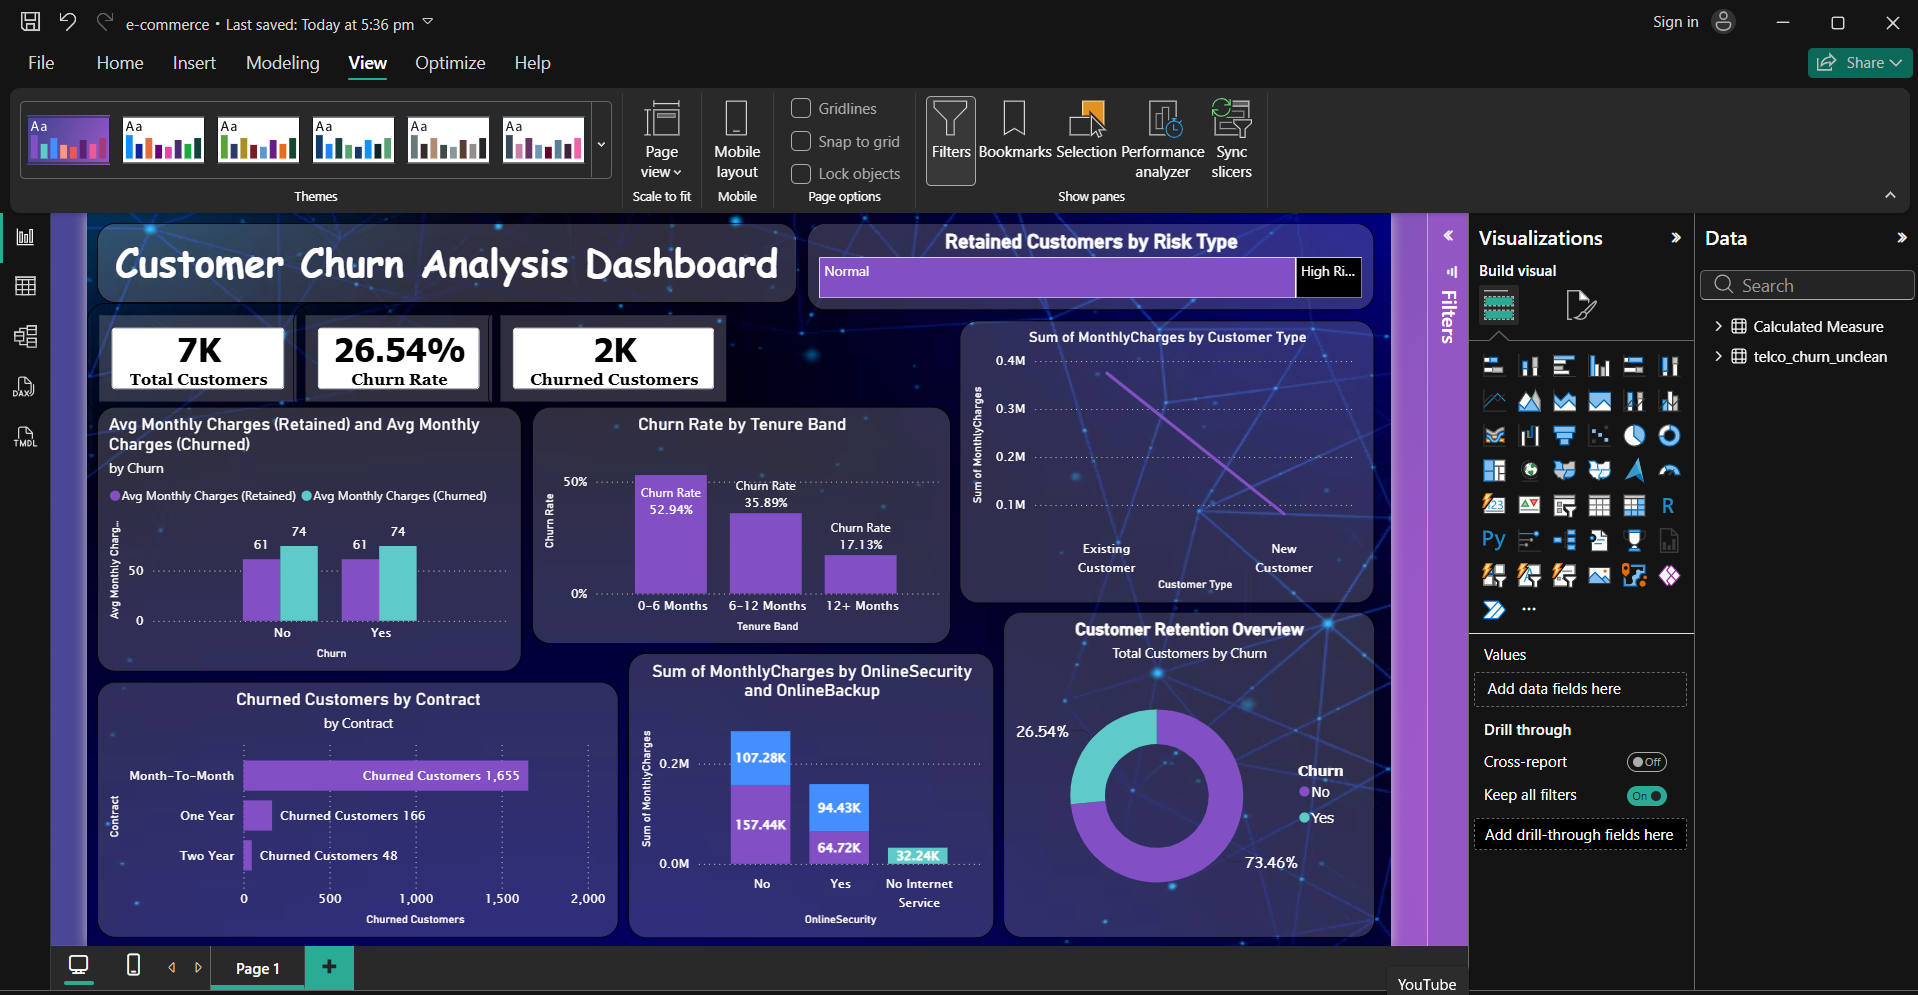

Layout of this report page (visuals, bound fields, positions):
{"tool":"powerbi","page":{"name":"Page 1","canvas":[1280,720],"ordinal":0},"visuals":[{"type":"textbox","box":[9.8,9.8,687.1,78.5],"z":0},{"type":"treemap","fields":{"Values":["Calculated Measure.Retained Customers"],"Group":["telco_churn_unclean.Risk Type"]},"box":[706.8,9.8,557.1,85.9],"z":1000},{"type":"cardVisual","fields":{"Data":["Calculated Measure.Total Customers"]},"box":[0,88.3,218.4,109.2],"z":2000},{"type":"cardVisual","fields":{"Data":["Calculated Measure.Churn Rate"]},"box":[202.5,88.3,207.4,109.2],"z":3000},{"type":"cardVisual","fields":{"Data":["Calculated Measure.Churned Customers"]},"box":[393.9,88.3,246.6,109.2],"z":4000},{"type":"donutChart","title":"Customer Retention Overview","fields":{"Y":["Calculated Measure.Total Customers"],"Category":["telco_churn_unclean.Churn"]},"box":[899.4,391.4,364.4,320.2],"z":5000},{"type":"barChart","title":"Churned Customers by Contract","fields":{"Y":["Calculated Measure.Churned Customers"],"Category":["telco_churn_unclean.Contract"]},"box":[9.8,460.1,511.7,251.5],"z":6000},{"type":"columnChart","fields":{"Category":["telco_churn_unclean.OnlineSecurity"],"Series":["telco_churn_unclean.OnlineBackup"],"Y":["Sum(telco_churn_unclean.MonthlyCharges)"]},"box":[531.3,431.9,359.5,279.8],"z":7000},{"type":"columnChart","fields":{"Y":["Calculated Measure.Churn Rate"],"Category":["telco_churn_unclean.Tenure Band"]},"box":[436.8,190.2,411,233.1],"z":8000},{"type":"clusteredColumnChart","fields":{"Y":["Calculated Measure.Avg Monthly Charges (Retained)","Calculated Measure.Avg Monthly Charges (Churned)"],"Category":["telco_churn_unclean.Churn"]},"box":[9.8,190.2,417.2,260.1],"z":9000},{"type":"lineChart","fields":{"Category":["telco_churn_unclean.Customer Type"],"Y":["Sum(telco_churn_unclean.MonthlyCharges)"]},"box":[856.4,105.5,407.4,277.3],"z":10000}]}

Visuals, with their boxes on the page's 1280x720 design canvas (x1, y1, x2, y2). These are canvas units, not pixel positions in the 1918x995 screenshot, which may show the page scaled, cropped or inside an application window:
textbox: x1=10, y1=10, x2=697, y2=88
treemap - Calculated Measure.Retained Customers x telco_churn_unclean.Risk Type: x1=707, y1=10, x2=1264, y2=96
cardVisual - Calculated Measure.Total Customers: x1=0, y1=88, x2=218, y2=198
cardVisual - Calculated Measure.Churn Rate: x1=202, y1=88, x2=410, y2=198
cardVisual - Calculated Measure.Churned Customers: x1=394, y1=88, x2=640, y2=198
"Customer Retention Overview" donutChart: x1=899, y1=391, x2=1264, y2=712
"Churned Customers by Contract" barChart: x1=10, y1=460, x2=522, y2=712
columnChart - telco_churn_unclean.OnlineSecurity x telco_churn_unclean.OnlineBackup: x1=531, y1=432, x2=891, y2=712
columnChart - Calculated Measure.Churn Rate x telco_churn_unclean.Tenure Band: x1=437, y1=190, x2=848, y2=423
clusteredColumnChart - Calculated Measure.Avg Monthly Charges (Retained) x Calculated Measure.Avg Monthly Charges (Churned): x1=10, y1=190, x2=427, y2=450
lineChart - telco_churn_unclean.Customer Type x Sum(telco_churn_unclean.MonthlyCharges): x1=856, y1=106, x2=1264, y2=383
